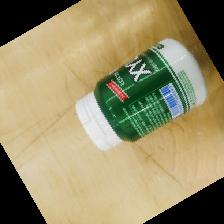Xylitol_green: (73, 35, 206, 155)
